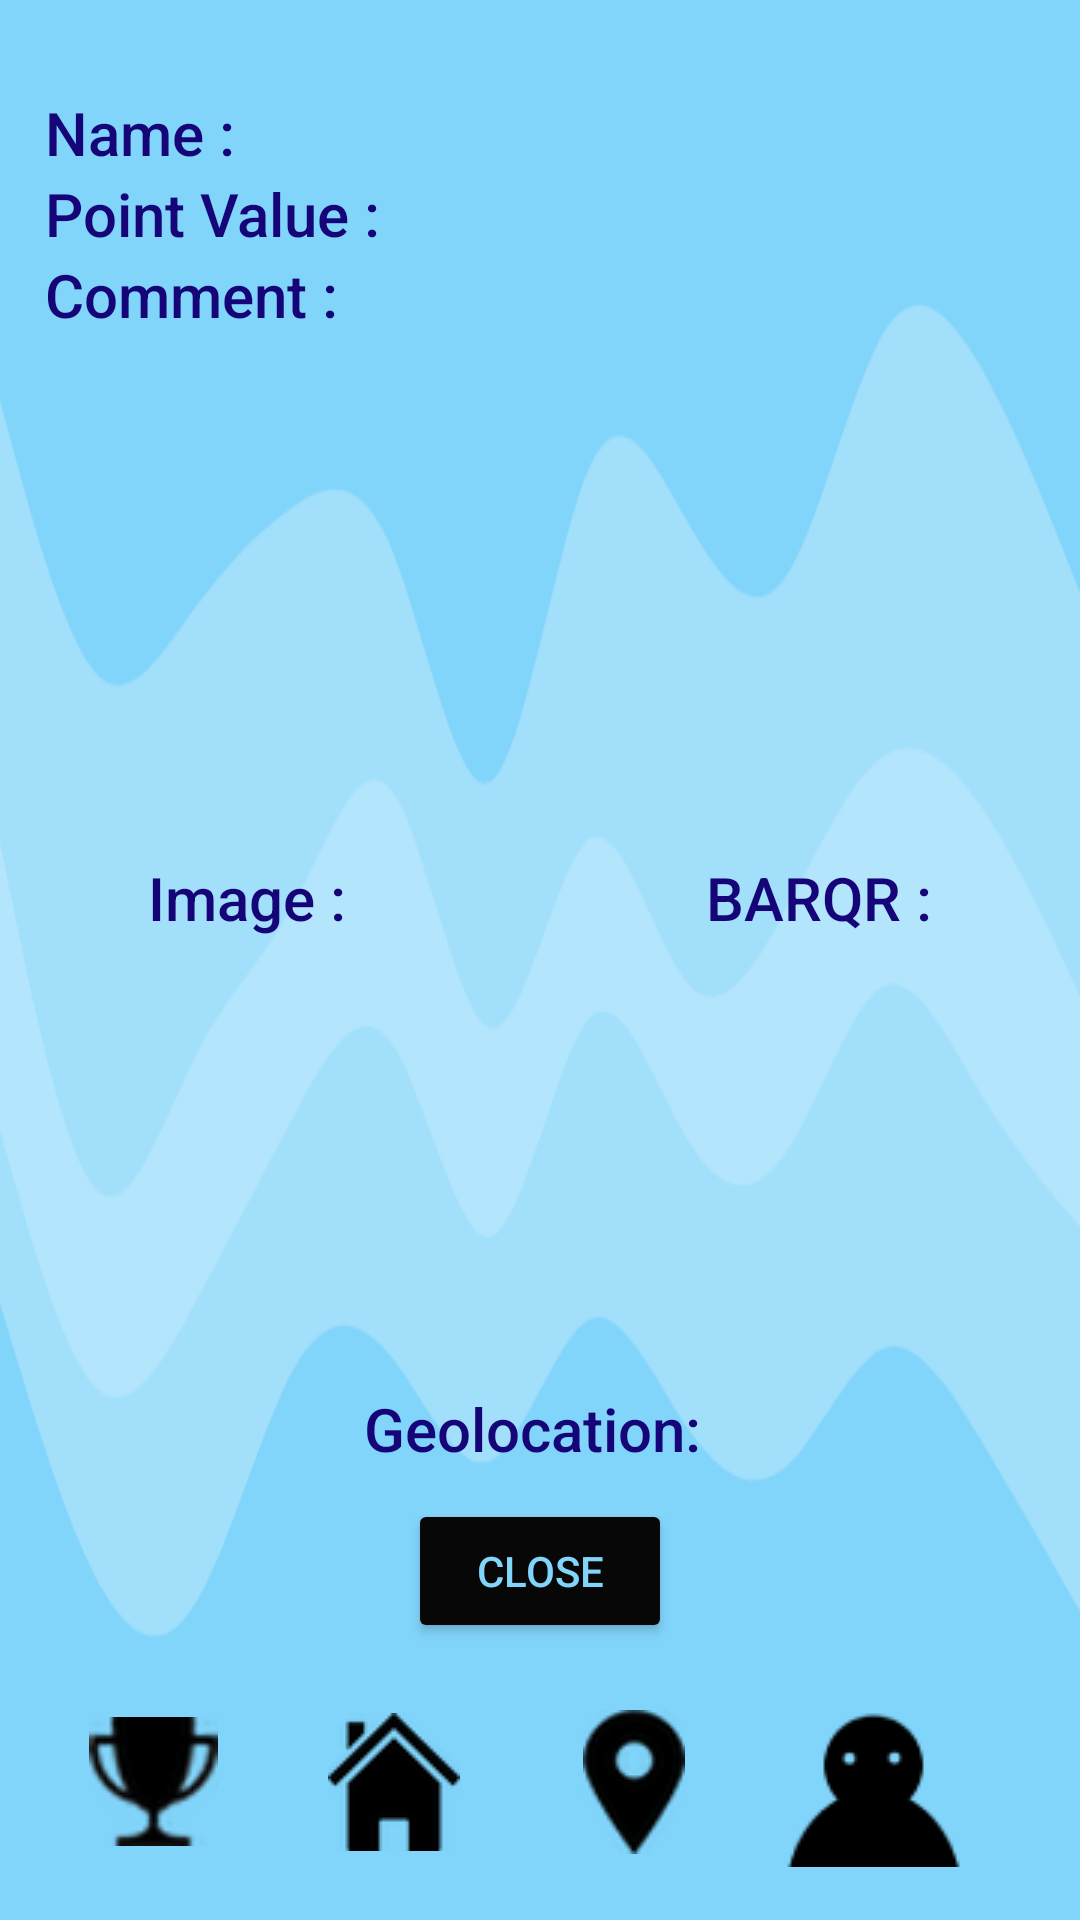

Icons on this 1080x1920 Android screen, each with the point to tap as [x,y]:
house: [394,1782]
map: [634,1782]
trophy: [153,1781]
